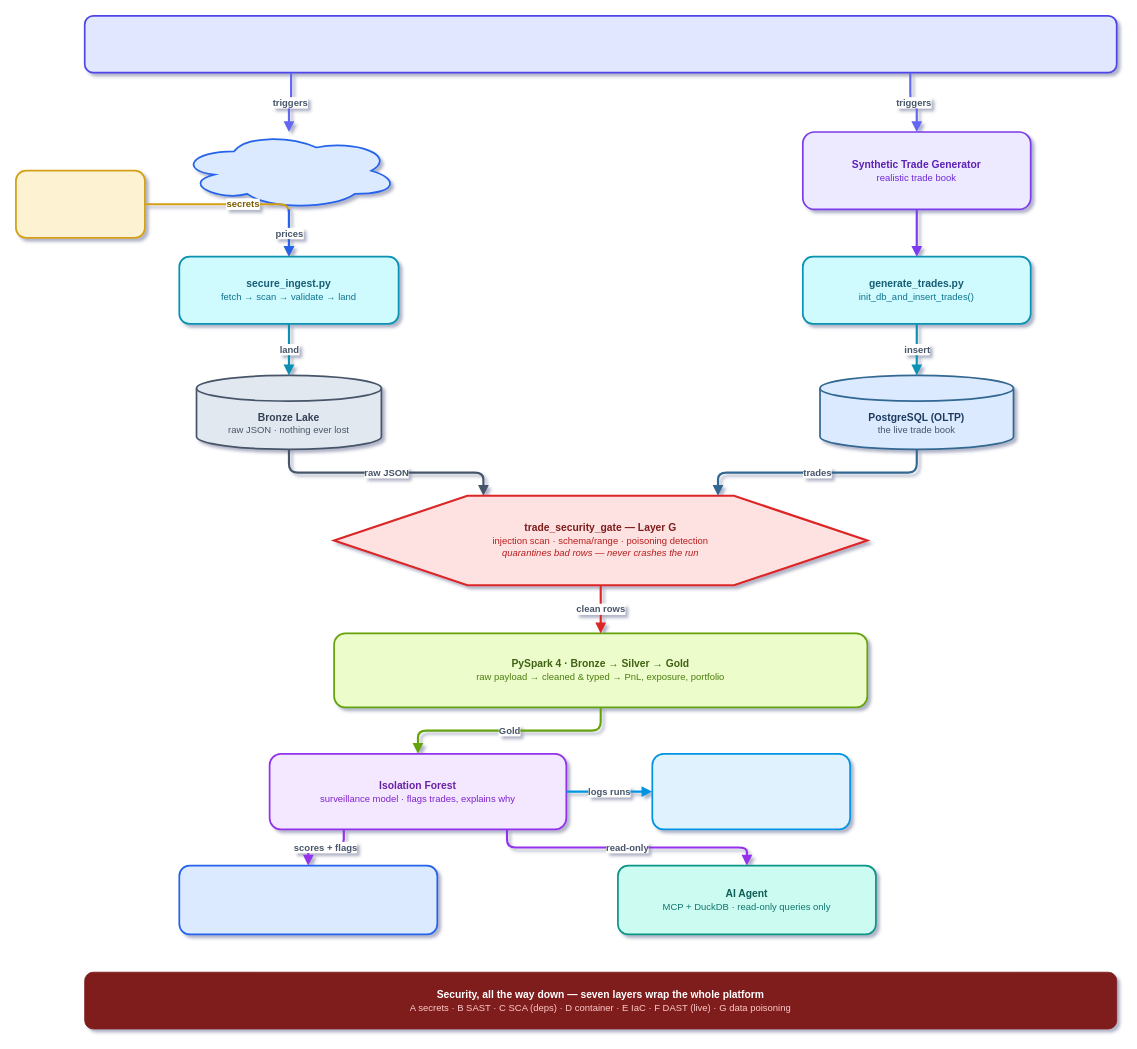
Image size: 1137x1049. Some labels were removed from this diagram. The shapes that lost their labels are listed below. From the top down, each one's centre as x and y in pixels, then its label:
At (600,44): "Apache Airflow 3 CeleryExecutor · schedules & secures every stage".
At (288,170): "SMARD API German day-ahead power prices".
At (80,203): "Vault KV v2 secrets".
At (751,791): "MLflow experiment tracking".
At (308,899): "Live Dashboard Streamlit + Plotly · :8501".
